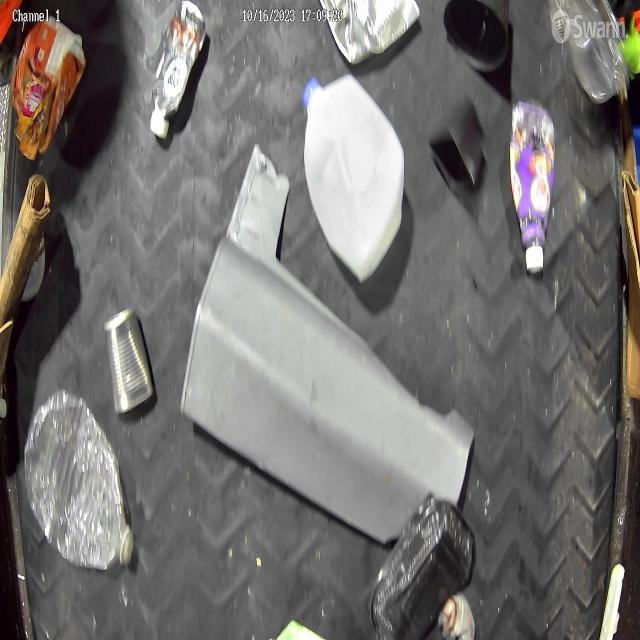can: (106, 307, 152, 413)
milk_jug: (303, 80, 403, 266)
plastic_bottle: (23, 393, 127, 562)
